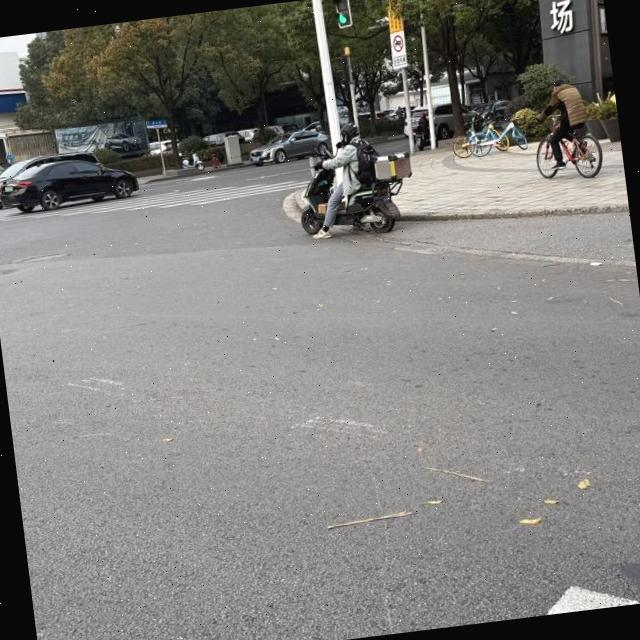curb: (398, 203, 628, 221), (145, 162, 252, 183), (295, 185, 307, 208)
